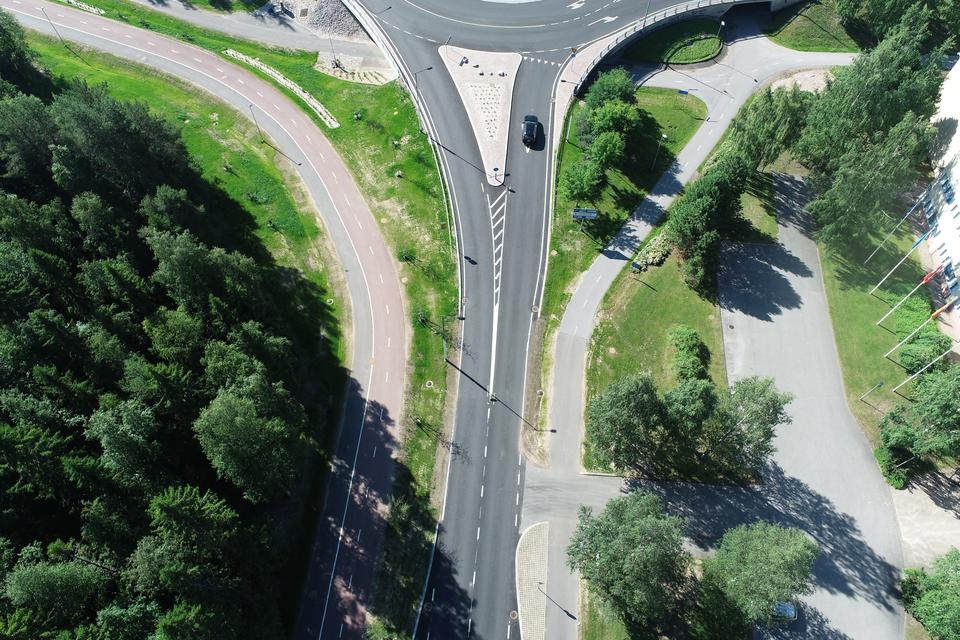intersection: (425, 426, 619, 552)
roundabout: (294, 0, 707, 193)
